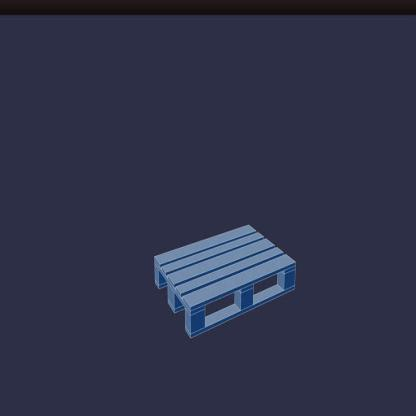BoxFace: (151, 221, 297, 345)
